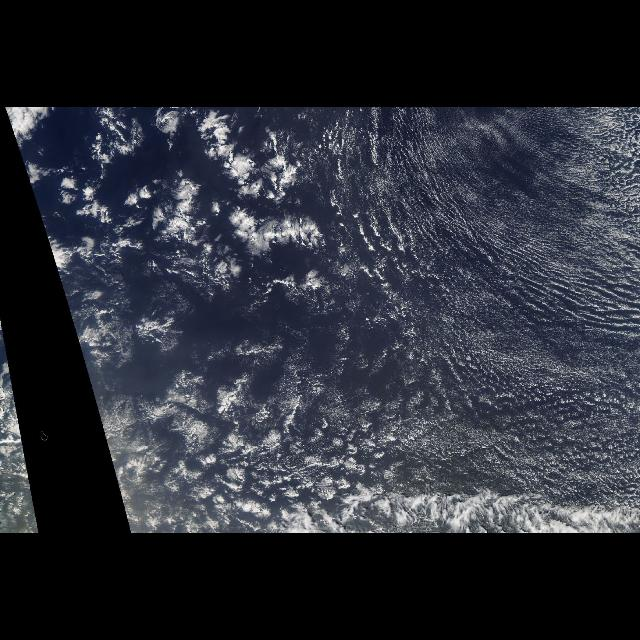Fish: (305, 470, 639, 530)
Flower: (60, 115, 334, 342)
Sugar: (336, 109, 640, 485)
